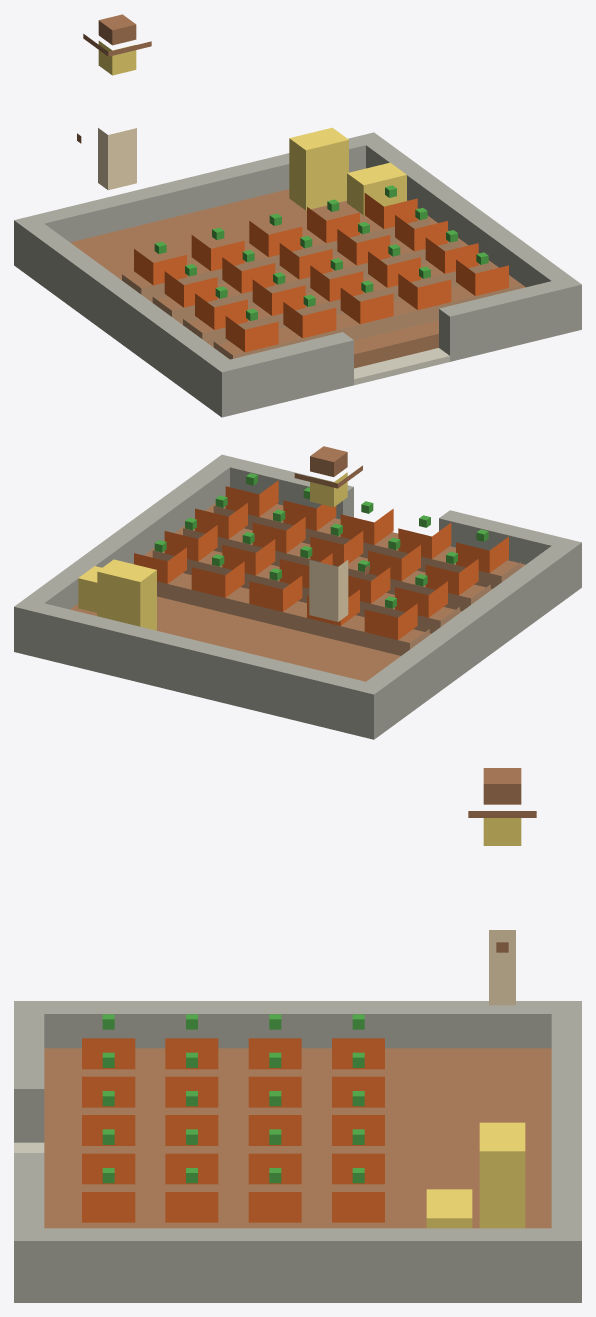
The model's file is field_t3_v3.glb.
3 renders of one model, top to bottom at view 1: azimuth 30°, elevation 25°; view 2: azimuth 150°, elevation 25°; view 3: azimuth 270°, elevation 25°, orthographic. The views are drawn at different scales.
Parts seen in each view (by area): view 1: field_t3_v3; view 2: field_t3_v3; view 3: field_t3_v3.
Part boxes in pixels (box(x1,y1,x2,y2)): field_t3_v3: box(14, 14, 581, 417); field_t3_v3: box(14, 446, 581, 739); field_t3_v3: box(14, 768, 581, 1302).
Bounding box in the file's own units: 0.75 × 0.49 × 0.75.
1 material, 1 textured.
